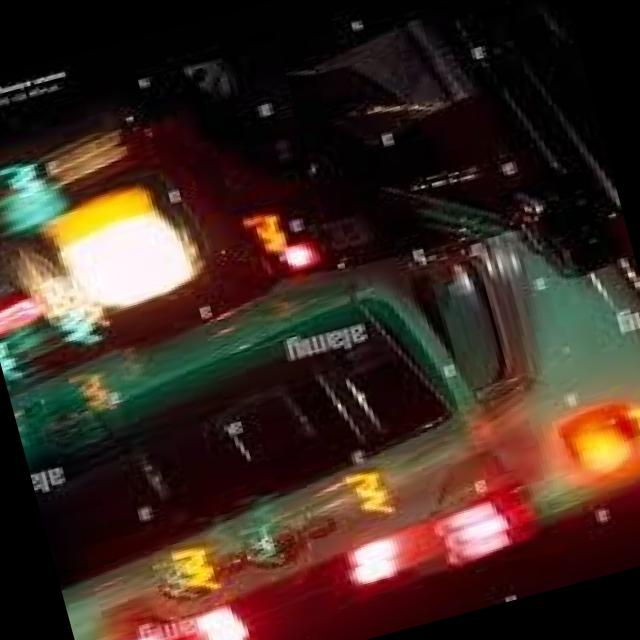ambulance: (169, 361, 640, 640)
